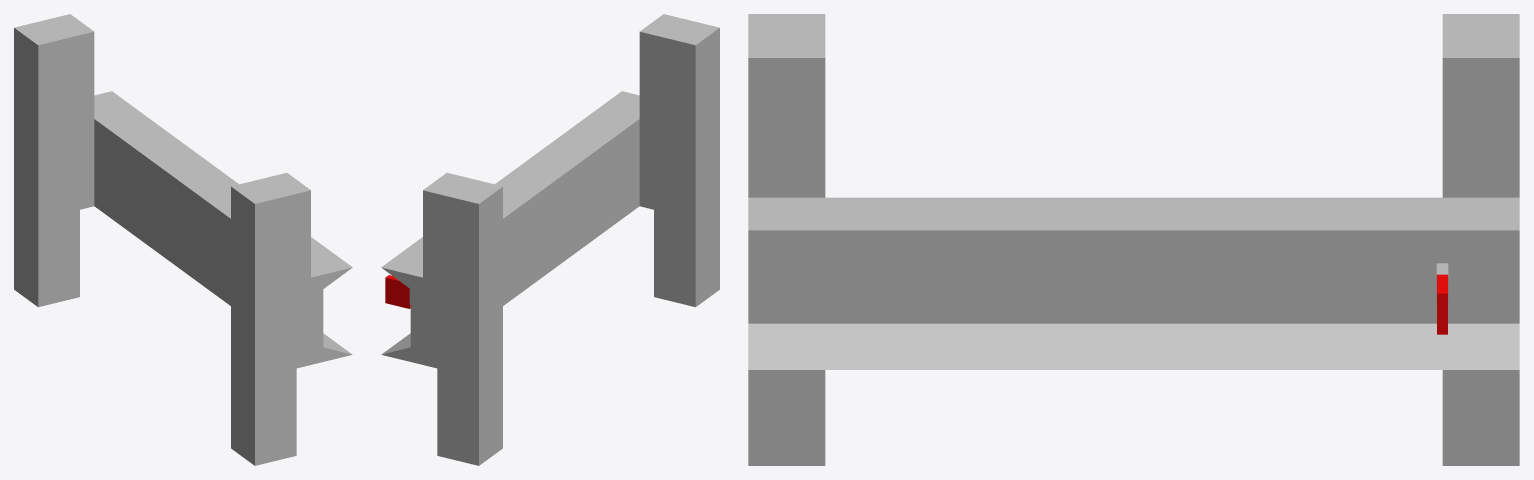
File: guard_gray_yes.fbx
The picture shows the model from 3 angles, left to right: view 1: azimuth 30°, elevation 25°; view 2: azimuth 150°, elevation 25°; view 3: azimuth 270°, elevation 25°; orthographic projection. The views are drawn at different scales.
Parts seen in each view (by area): view 1: Cube.066; view 2: Cube.066; view 3: Cube.066.
Boxes of the visible parts, box(x1,y1,x2,y2) form: Cube.066: box(14, 14, 352, 465); Cube.066: box(381, 14, 719, 465); Cube.066: box(748, 14, 1519, 465).
Size of the model in its own units: 139 by 300 by 500.
1 material, 1 textured.
